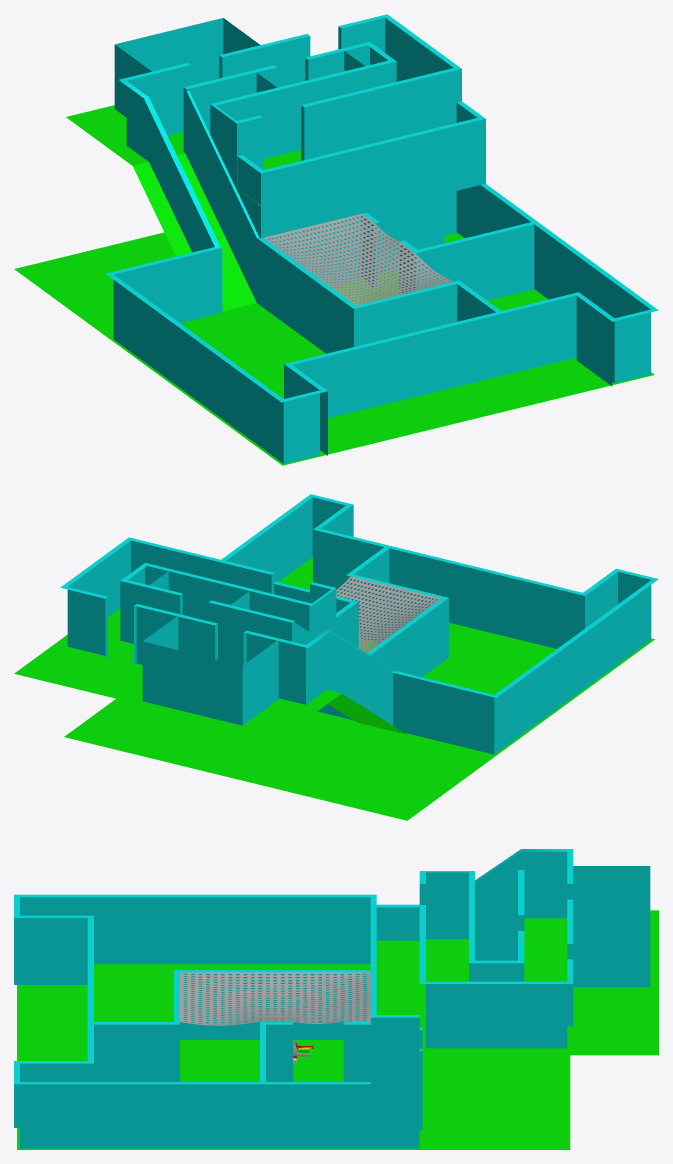
The model's file is spe_map.fbx.
The picture shows the model from 3 angles, top to bottom: view 1: azimuth 30°, elevation 25°; view 2: azimuth 150°, elevation 25°; view 3: azimuth 270°, elevation 25°; orthographic projection. The views are drawn at different scales.
Visible parts, largest first — view 1: Wall, Floor, Net; view 2: Wall, Floor, Net; view 3: Wall, Floor, Net.
Part boxes in pixels (x1,y1,x2,y2): Wall: (106, 14, 658, 463); Floor: (14, 105, 654, 465); Net: (264, 213, 453, 305); Wall: (60, 494, 658, 754); Floor: (14, 557, 654, 820); Net: (336, 576, 440, 652); Wall: (14, 849, 650, 1148); Floor: (17, 910, 658, 1149); Net: (180, 972, 370, 1025).
Size of what is drawn, in the model's own units: 746 by 313 by 1049.
